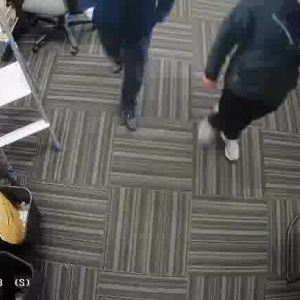person: (197, 0, 300, 161), (89, 0, 172, 134)
